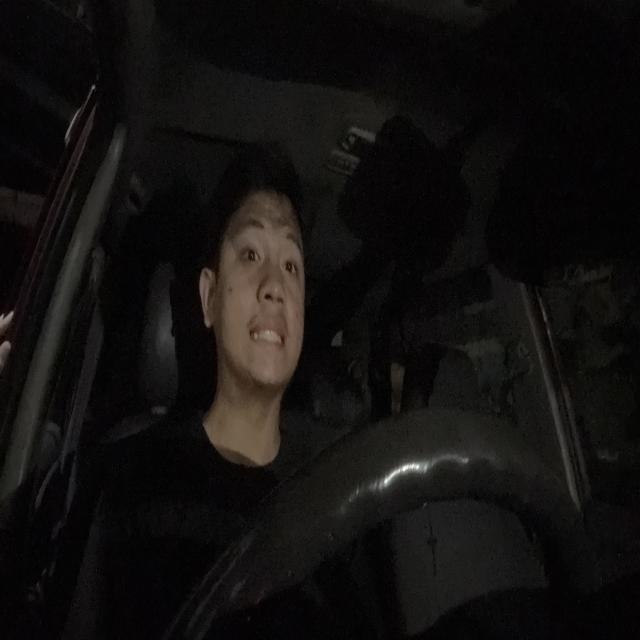open: (230, 220, 266, 275), (281, 234, 305, 290)
